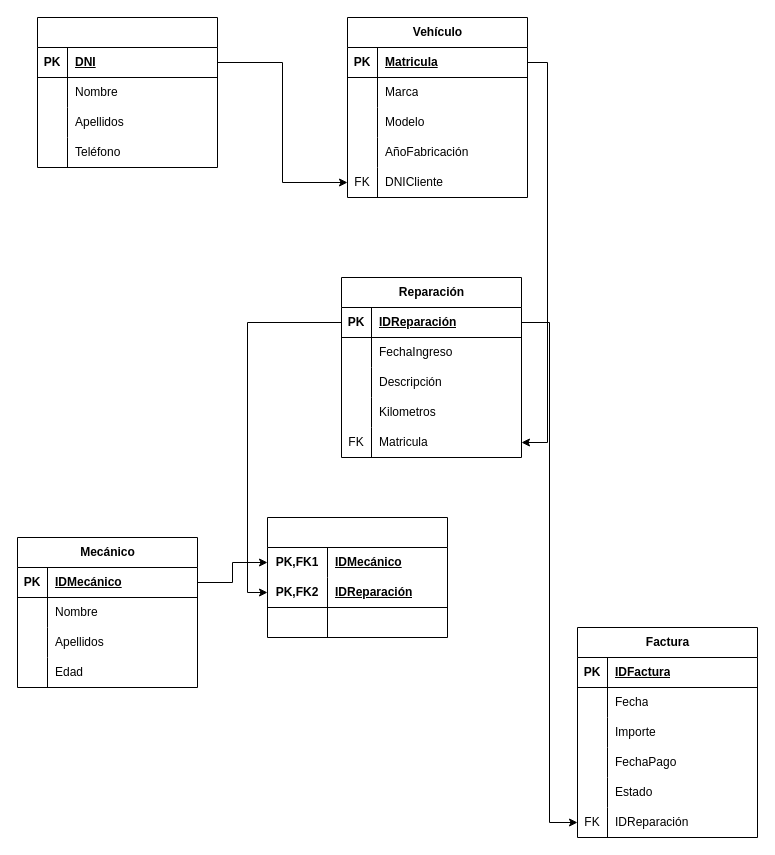
Image size: 775x855. Some labels were removed from this diagram. Each missing label, with the box of its shape:
Cliente: (36, 16, 218, 168)
Reparar: (266, 516, 448, 638)
